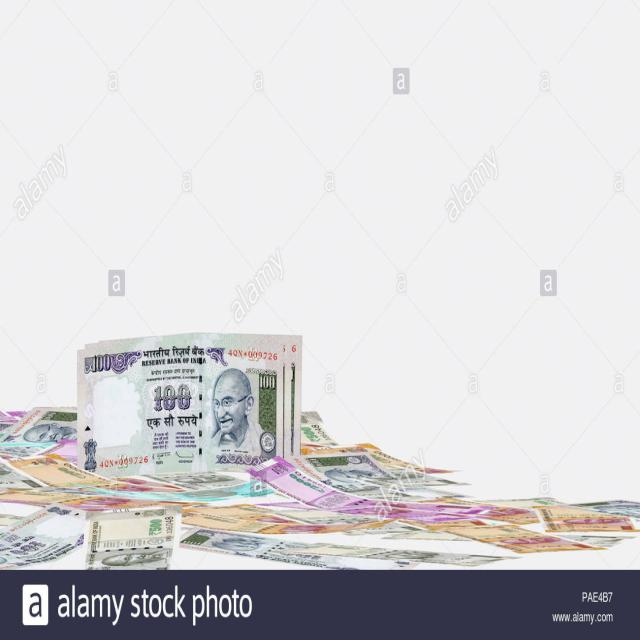100IndianRupees: (76, 332, 285, 477)
